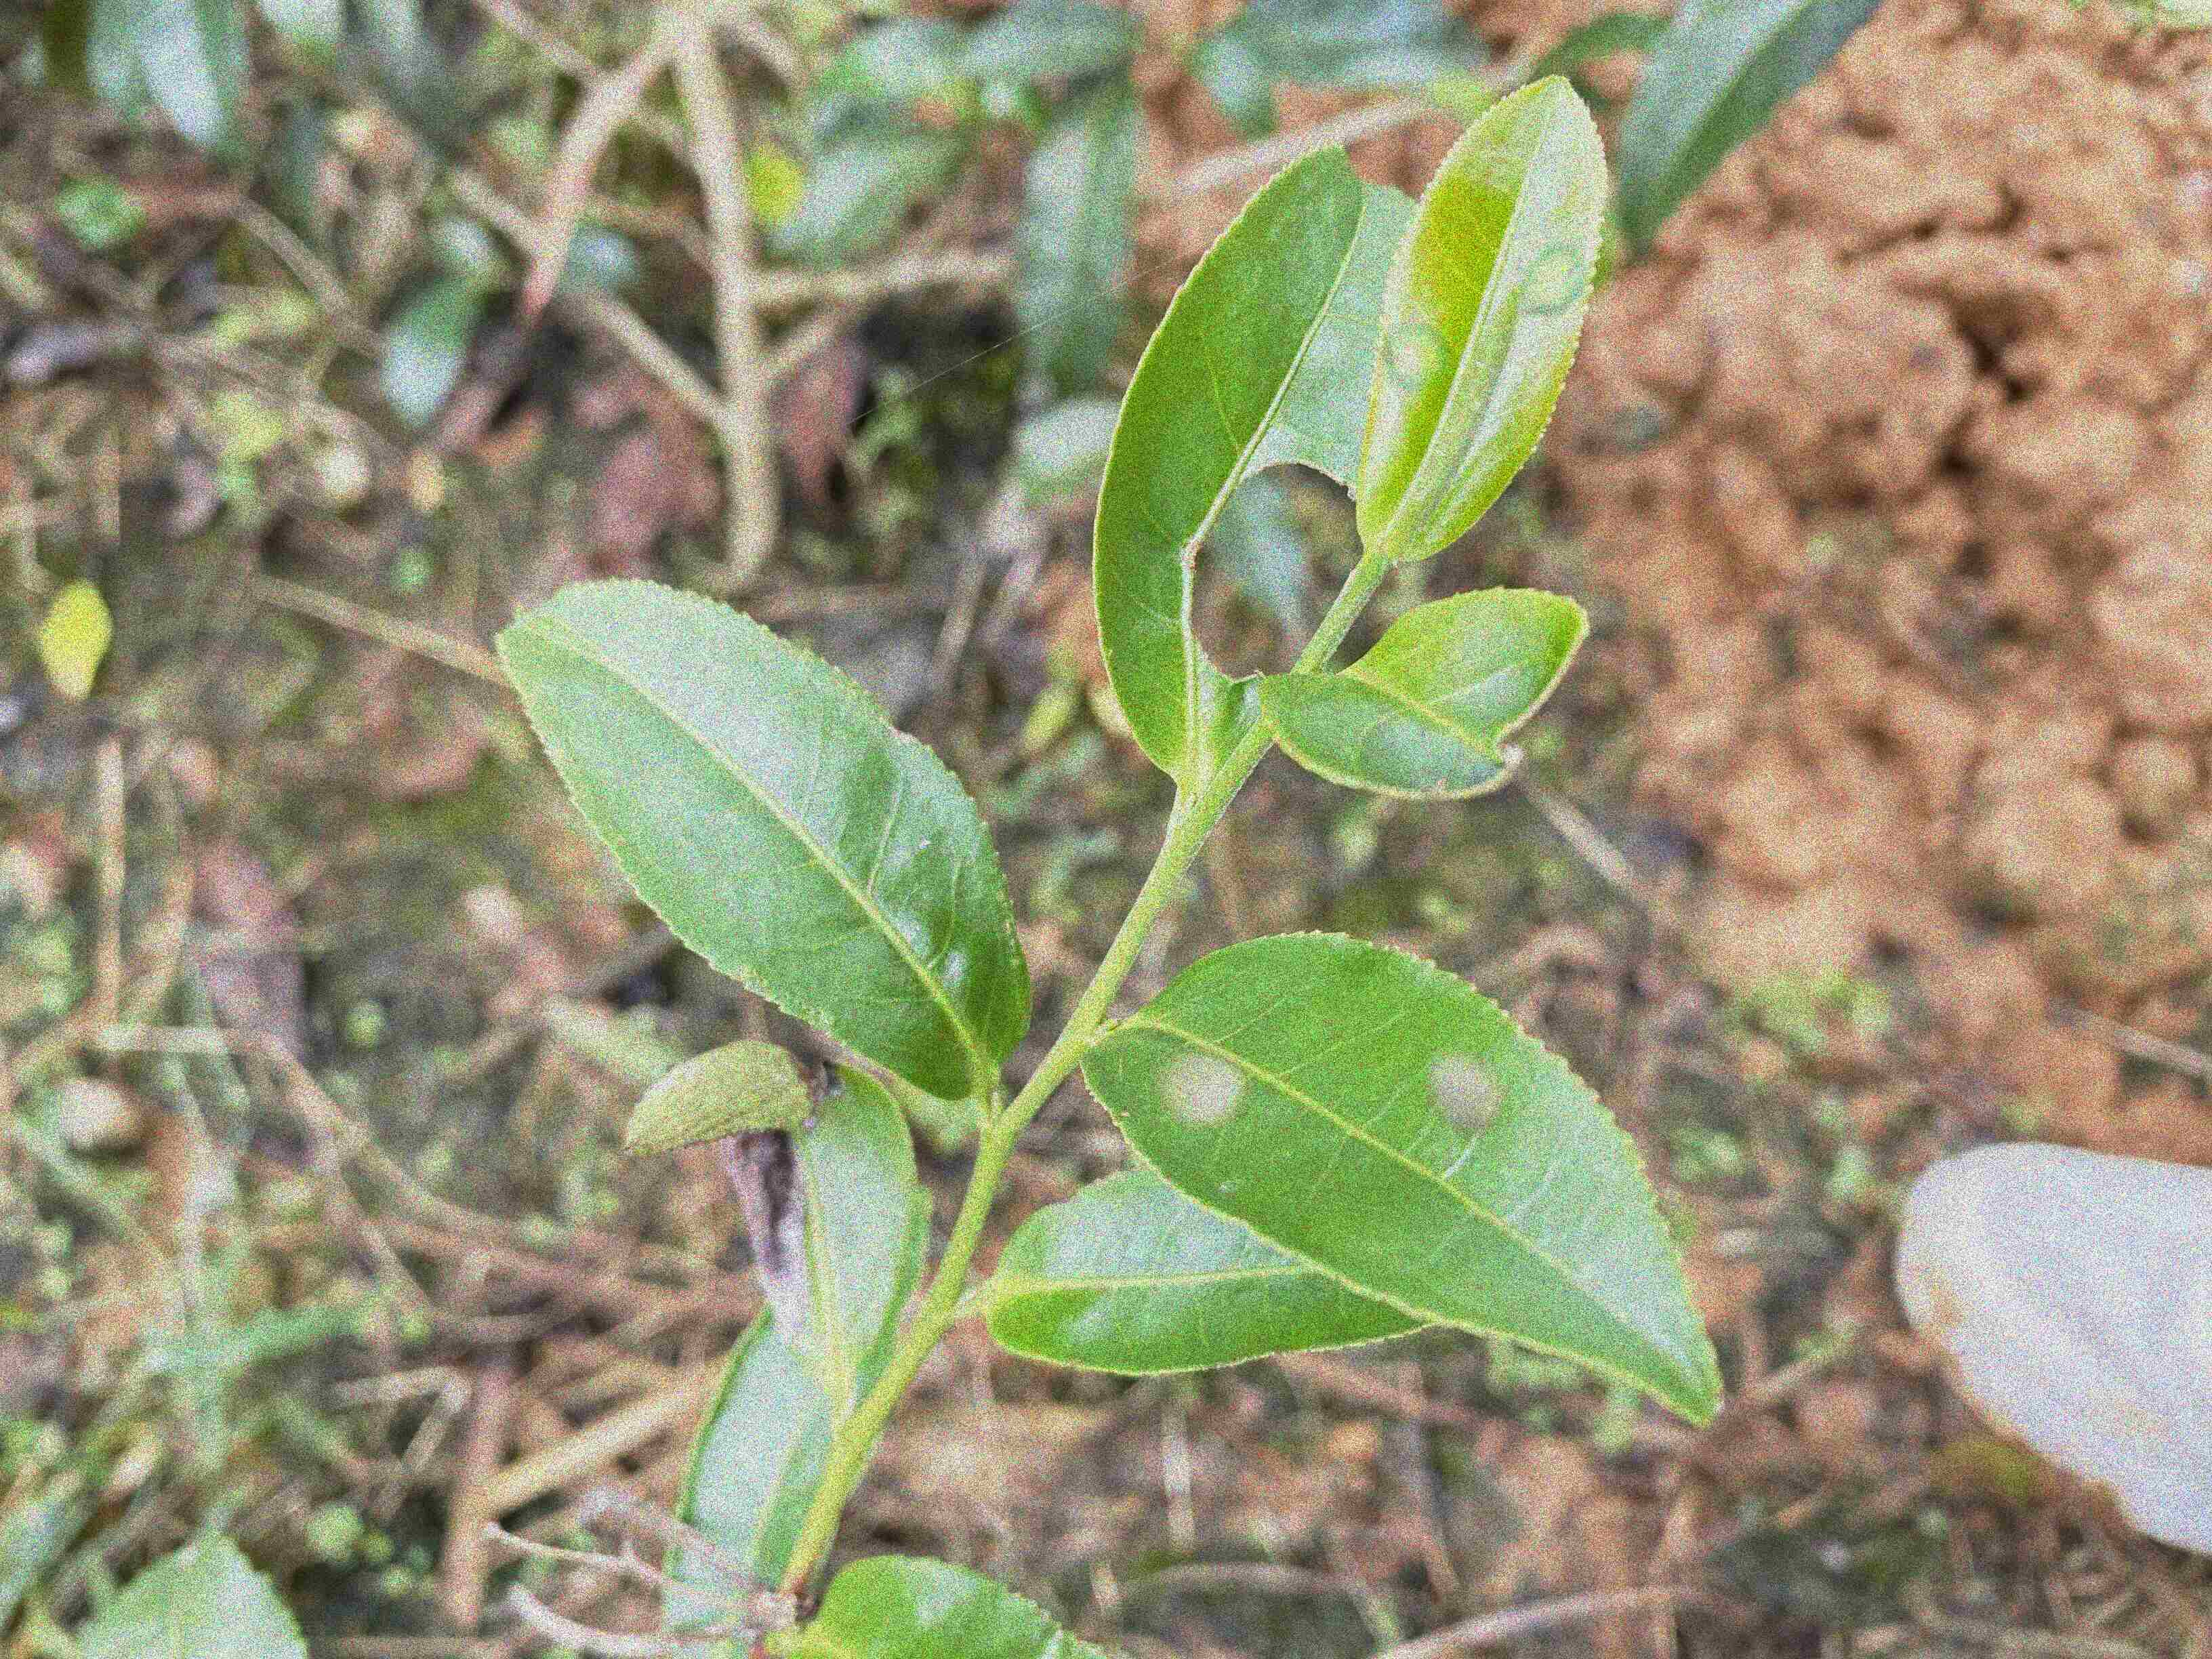chabing_high: (1087, 929, 1728, 1424), (1357, 77, 1604, 565)
chihuo_low: (1092, 143, 1413, 791), (1261, 582, 1590, 800)
healthy: (982, 1164, 1442, 1375)
tanju_high: (723, 1058, 925, 1392)
